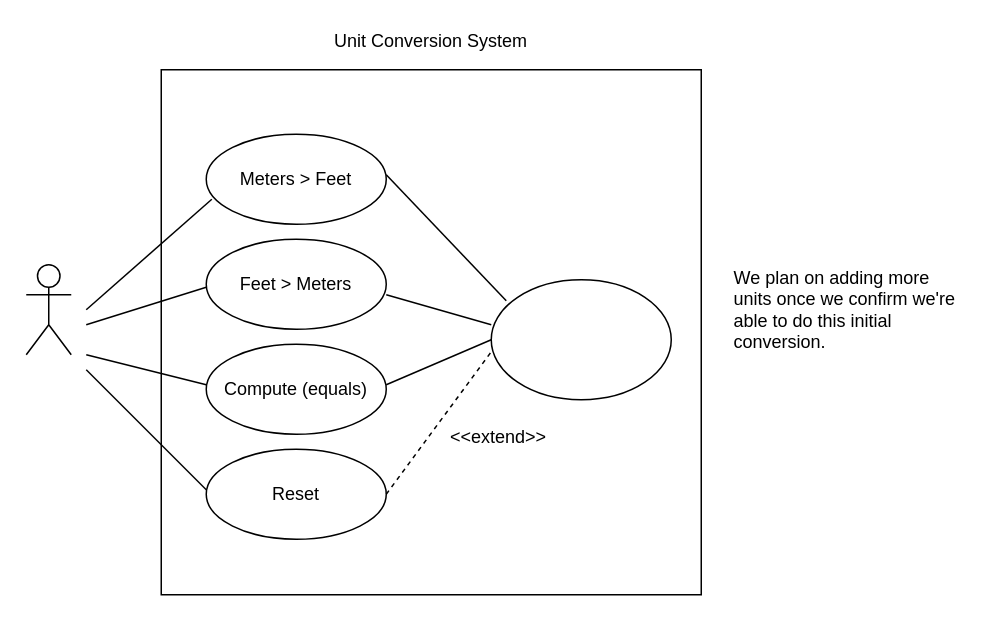
This 998x621 diagram has some shape labels left out. Here are the shapes that lost their labels. From the top down, the box of each, then its label:
(25, 263, 71, 355): User
(490, 278, 671, 400): Display
